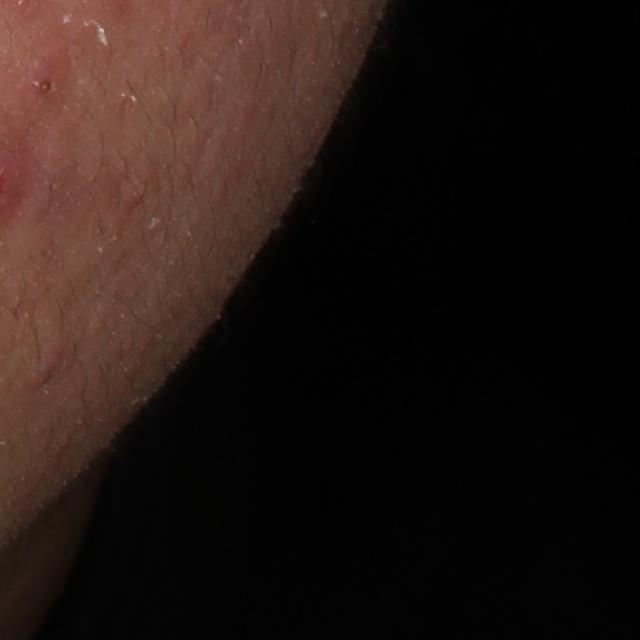papule: (13, 39, 74, 108), (27, 334, 69, 392)
